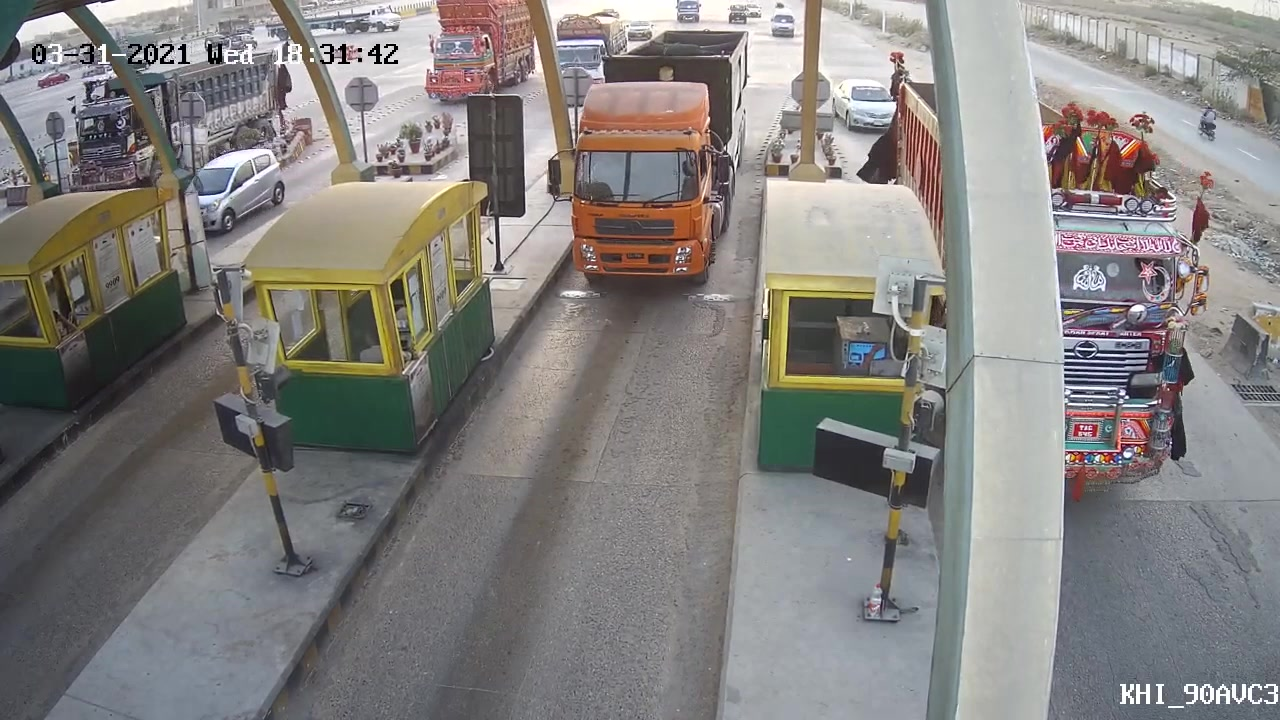F5: (545, 22, 759, 292)
